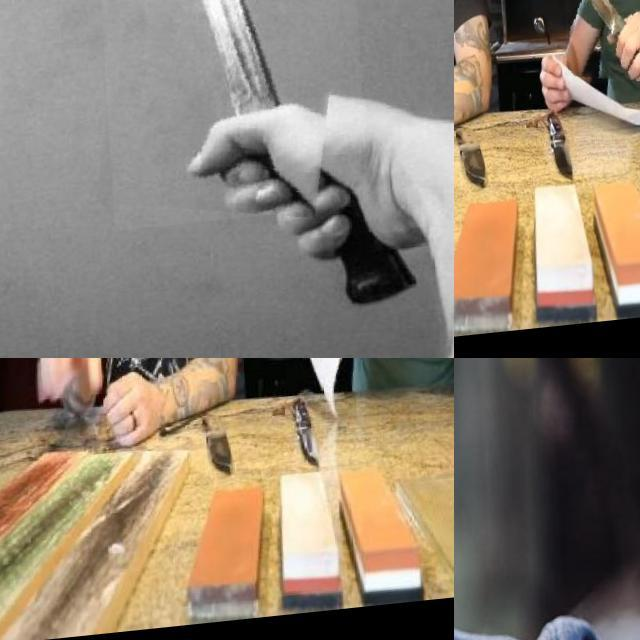-: (89, 0, 363, 234), (454, 358, 540, 640), (559, 0, 640, 94), (280, 358, 367, 426)
